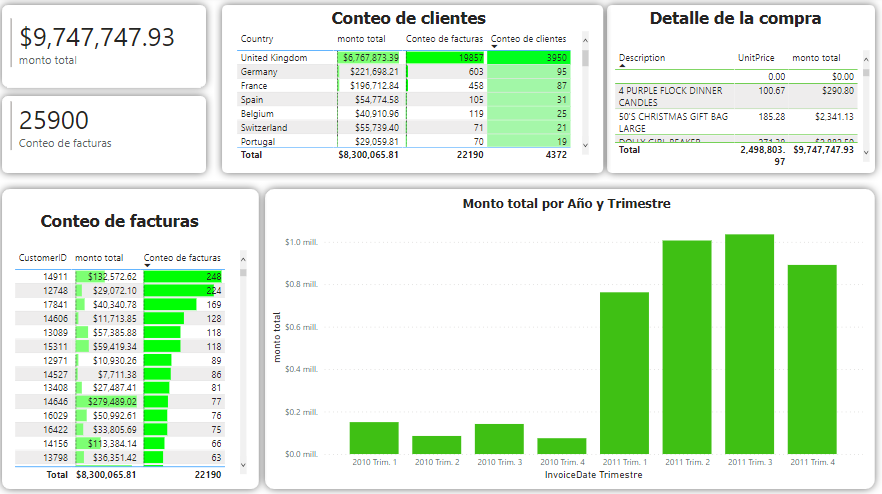

Layout of this report page (visuals, bound fields, positions):
{"tool":"powerbi","page":{"name":"Analisis #2","canvas":[1280,720],"ordinal":1},"visuals":[{"type":"shape","box":[378.7,265,901.4,455],"z":0},{"type":"shape","box":[871.2,0,409,265],"z":1000},{"type":"shape","box":[316.8,0,571.7,265],"z":2000},{"type":"shape","box":[0,0,316.8,141.1],"z":3000},{"type":"shape","box":[0,131,316.8,133.9],"z":4000},{"type":"multiRowCard","fields":{"Values":["Sum(data.monto total)"]},"box":[18.7,25.9,279.4,105.1],"z":5000},{"type":"multiRowCard","fields":{"Values":["data.Conteo de facturas"]},"box":[18.7,145.4,279.4,105.1],"z":6000},{"type":"shape","box":[0,265,393.1,455],"z":7000},{"type":"tableEx","fields":{"Values":["data.CustomerID","Sum(data.monto total)","data.Conteo de facturas"]},"box":[24.5,360,344.2,341.3],"z":8000},{"type":"textbox","box":[61.9,302.4,316.8,95],"z":9000},{"type":"tableEx","fields":{"Values":["data.Country","Sum(data.monto total)","data.Conteo de facturas","data.Conteo de clientes"]},"box":[344.2,44.6,517,195.8],"z":10000},{"type":"columnChart","title":"Monto total por Año y Trimestre","fields":{"Category":["data.InvoiceDate.Variación.Jerarquía de fechas.Año","data.InvoiceDate.Variación.Jerarquía de fechas.Trimestre","data.InvoiceDate.Variación.Jerarquía de fechas.Mes","data.InvoiceDate.Variación.Jerarquía de fechas.Día"],"Y":["Sum(data.monto total)"]},"box":[393.1,285.1,862.6,416.2],"z":11000},{"type":"textbox","box":[481,10.1,316.8,69.1],"z":12000},{"type":"tableEx","fields":{"Values":["data.Description","Sum(data.UnitPrice)","Sum(data.monto total)"]},"box":[888.5,72,377.3,178.6],"z":13000},{"type":"textbox","box":[938.9,10.1,316.8,69.1],"z":13001}]}

Visuals, with their boxes in screenshot pixels (x1, y1, x2, y2), scaled from the page's 1280x720 canvas onto the 882x494 screenshot:
shape: (261,182,881,493)
shape: (600,0,881,182)
shape: (218,0,612,182)
shape: (0,0,218,97)
shape: (0,90,218,182)
multiRowCard - Sum(data.monto total): (13,18,205,90)
multiRowCard - data.Conteo de facturas: (13,100,205,172)
shape: (0,182,271,493)
tableEx - data.CustomerID x Sum(data.monto total): (17,247,254,481)
textbox: (43,207,261,273)
tableEx - data.Country x Sum(data.monto total): (237,31,593,165)
"Monto total por Año y Trimestre" columnChart: (271,196,865,481)
textbox: (331,7,550,54)
tableEx - data.Description x Sum(data.UnitPrice): (612,49,872,172)
textbox: (647,7,865,54)
